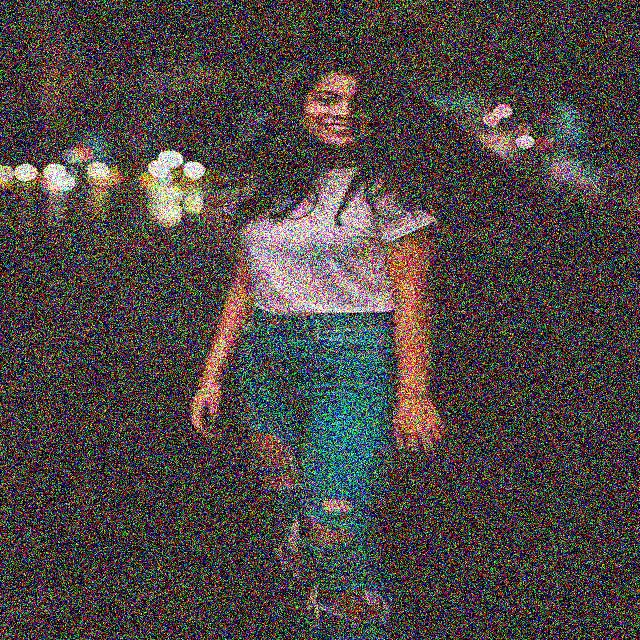ripped_pants: (229, 301, 422, 640)
